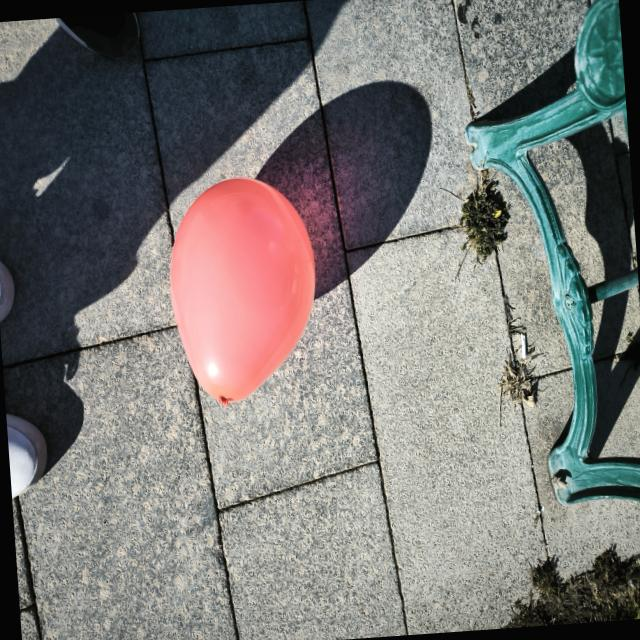balloon: (170, 178, 315, 404)
